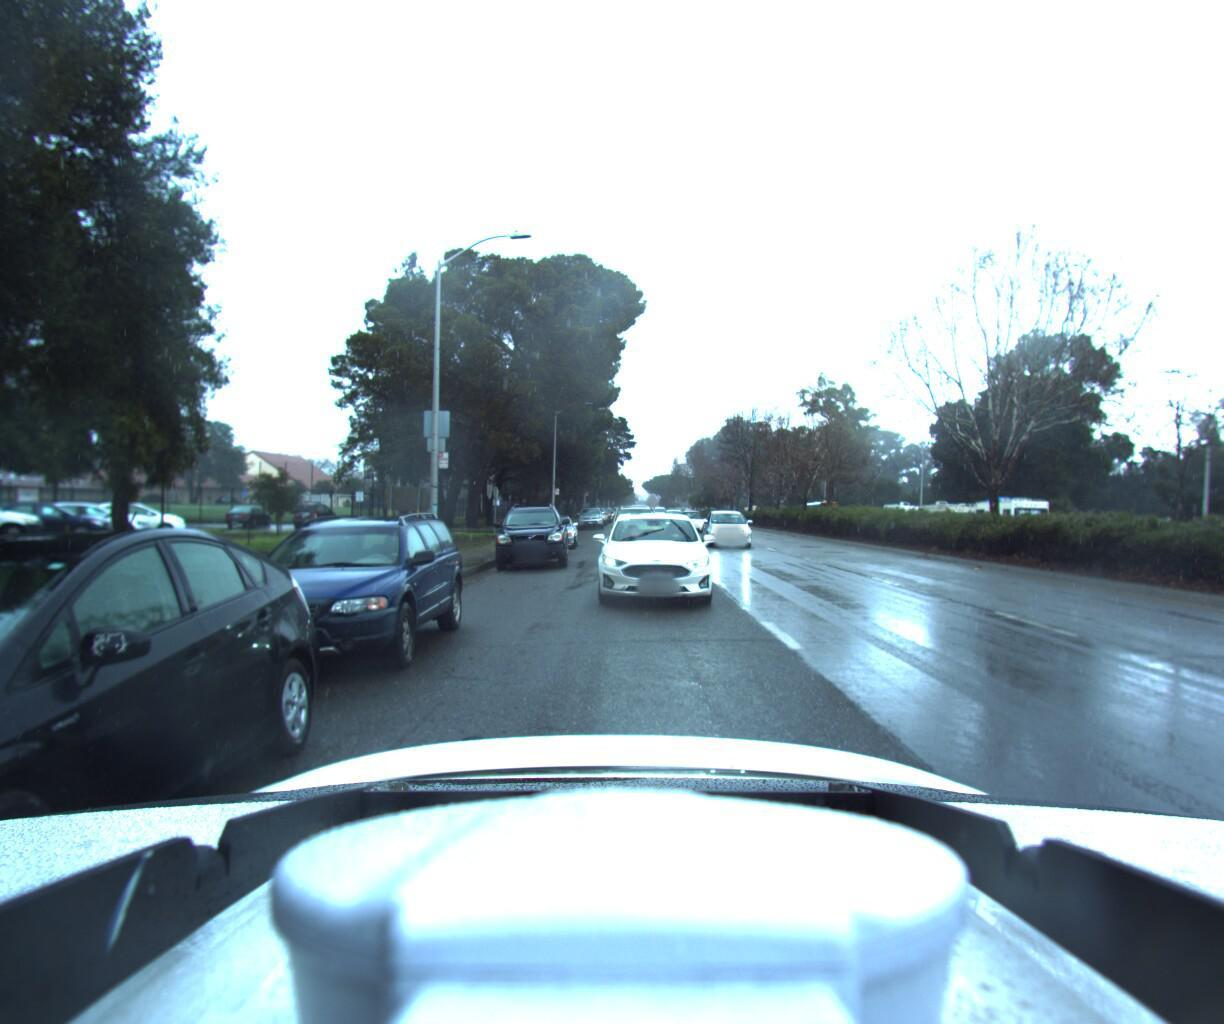car: (173, 506, 471, 688), (597, 502, 722, 610), (490, 495, 570, 570), (606, 503, 663, 554), (702, 508, 761, 548), (524, 510, 577, 547), (674, 508, 707, 534), (574, 503, 601, 527), (660, 505, 685, 525)
other_vehicle: (954, 490, 1051, 545), (907, 496, 974, 537), (876, 497, 923, 532)
